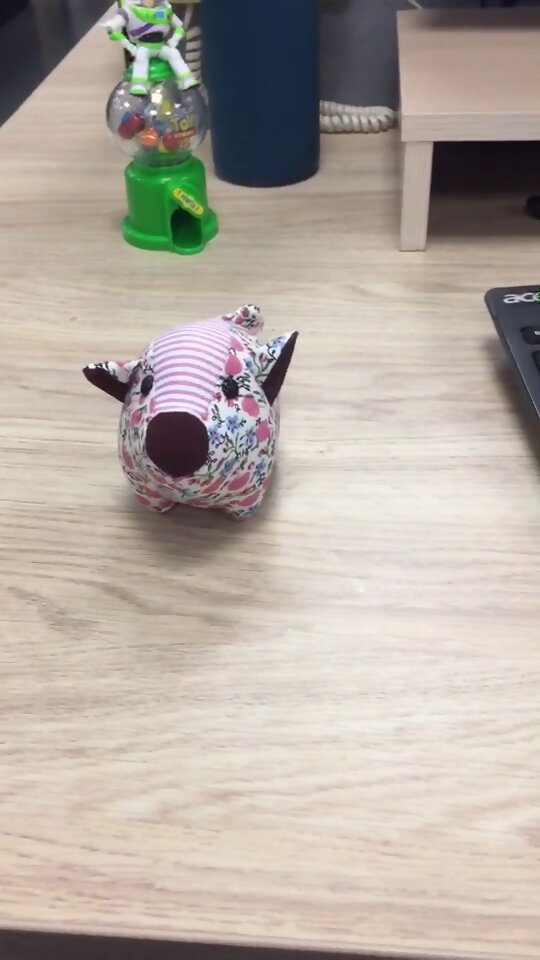pig: (83, 301, 301, 524)
